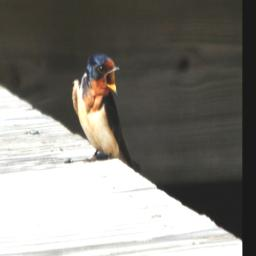Swallow: (71, 50, 129, 162)
